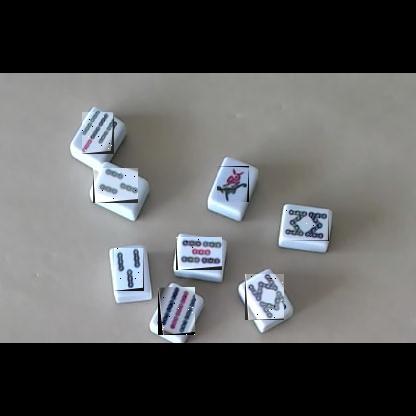1s: (217, 166, 249, 202)
3s: (93, 168, 138, 203), (114, 248, 144, 291)
5s: (176, 237, 222, 270)
7s: (82, 112, 114, 154)
8s: (245, 274, 284, 320), (283, 209, 329, 241)
9s: (158, 287, 195, 335)
